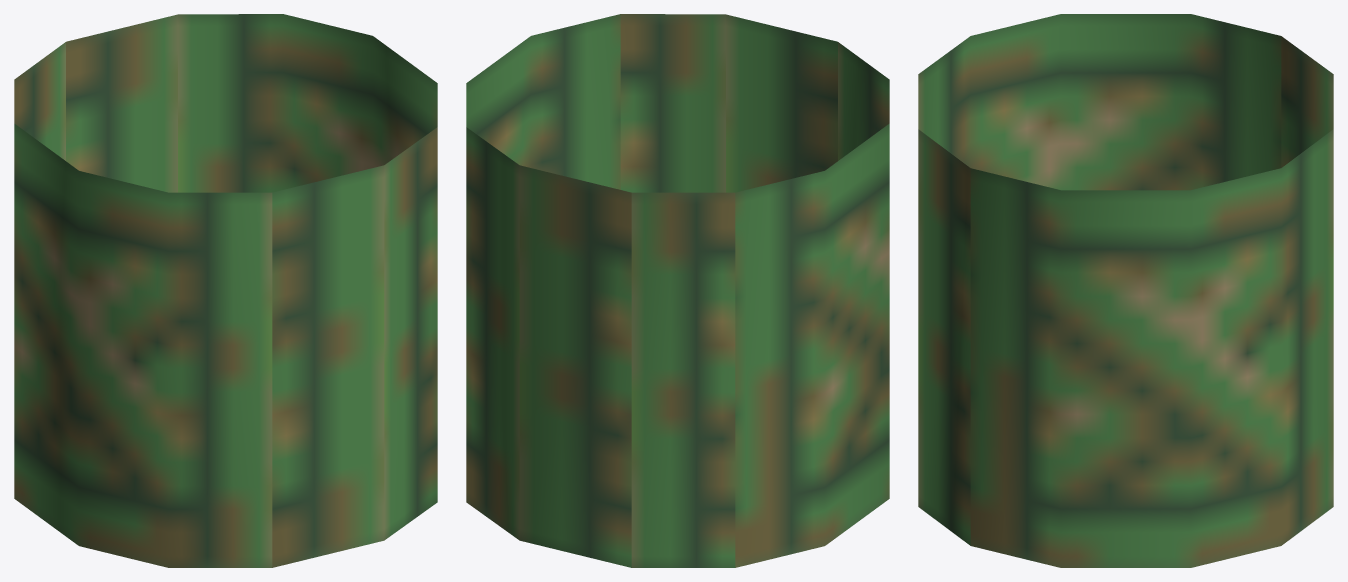
File: tube-12-faced-16x16x16.obj
3 renders of one model, left to right at view 1: azimuth 30°, elevation 25°; view 2: azimuth 150°, elevation 25°; view 3: azimuth 270°, elevation 25°, orthographic.
Visible parts, largest first — view 1: Default; view 2: Default; view 3: Default.
Part boxes in pixels (bbox=[...]): Default: bbox=[14, 14, 437, 567]; Default: bbox=[466, 14, 889, 567]; Default: bbox=[918, 14, 1333, 567].
Size of the model in its own units: 1 by 1 by 0.9955.
